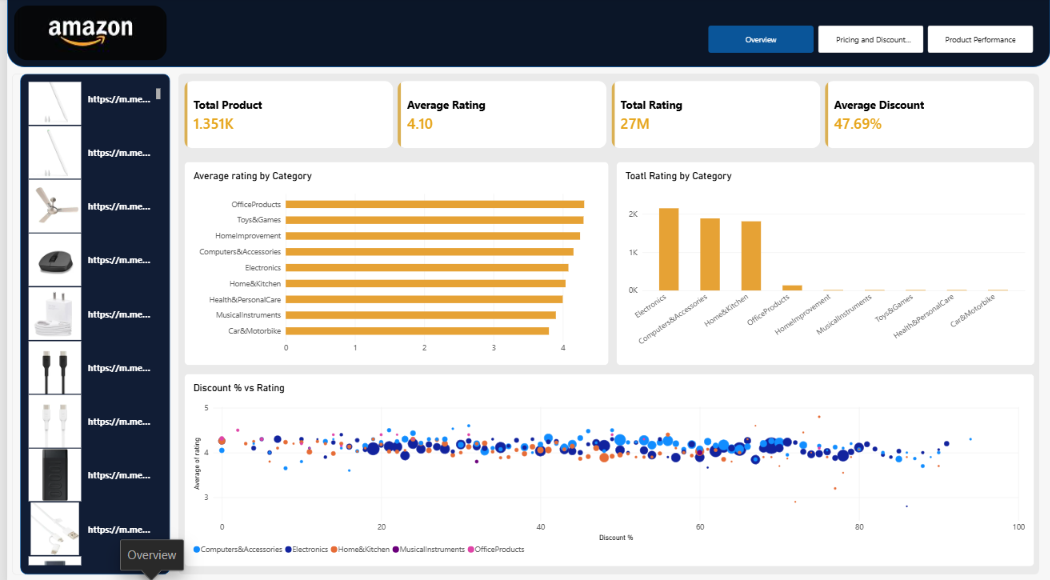

The dashboard page shown, as its layout file describes it:
{"tool":"powerbi","page":{"name":"Overview ","canvas":[1920,1080],"ordinal":0},"visuals":[{"type":"shape","box":[0,0,1920,128],"z":0},{"type":"shape","box":[23.9,139.9,276.1,922.1],"z":1000},{"type":"shape","box":[314.7,139.9,1584.7,922.1],"z":2000},{"type":"cardVisual","fields":{"Data":["Count(amazon.product_id)","Avg(amazon.rating)","Sum(amazon.rating_count)","Avg(amazon.discount_percentage)"]},"box":[325,153.3,1565,125],"z":3000},{"type":"barChart","title":"Average rating by Category","fields":{"Category":["amazon.category.1"],"Y":["Avg(amazon.rating)"]},"box":[326,302,781.7,375],"z":4000},{"type":"columnChart","title":"Toatl Rating by Category","fields":{"Category":["amazon.category.1"],"Y":["Sum(amazon.rating)"]},"box":[1120,301.7,770,375],"z":5000},{"type":"scatterChart","title":"Discount % vs Rating","fields":{"X":["amazon.Discount %"],"Y":["Avg(amazon.rating)"],"Series":["amazon.category.1"],"Size":["Sum(amazon.rating_count)"]},"box":[325.8,692,1564.4,355.2],"z":6000},{"type":"image","box":[12,14,281.1,101.1],"z":7000},{"type":"pageNavigator","box":[1290.2,51.5,600,50],"z":8000},{"type":"listSlicer","fields":{"Values":["amazon.img_link"]},"box":[9.2,139.9,290.8,922.1],"z":9000}]}

Visuals, with their boxes in screenshot pixels (x1, y1, x2, y2), scaled from the page's 1920x1080 canvas onto the 1050x580 screenshot:
shape: {"left": 0, "top": 0, "right": 1049, "bottom": 69}
shape: {"left": 13, "top": 75, "right": 164, "bottom": 570}
shape: {"left": 172, "top": 75, "right": 1039, "bottom": 570}
cardVisual - Count(amazon.product_id) x Avg(amazon.rating): {"left": 178, "top": 82, "right": 1034, "bottom": 149}
"Average rating by Category" barChart: {"left": 178, "top": 162, "right": 606, "bottom": 364}
"Toatl Rating by Category" columnChart: {"left": 612, "top": 162, "right": 1034, "bottom": 363}
"Discount % vs Rating" scatterChart: {"left": 178, "top": 372, "right": 1034, "bottom": 562}
image: {"left": 7, "top": 8, "right": 160, "bottom": 62}
pageNavigator: {"left": 706, "top": 28, "right": 1034, "bottom": 55}
listSlicer - amazon.img_link: {"left": 5, "top": 75, "right": 164, "bottom": 570}
